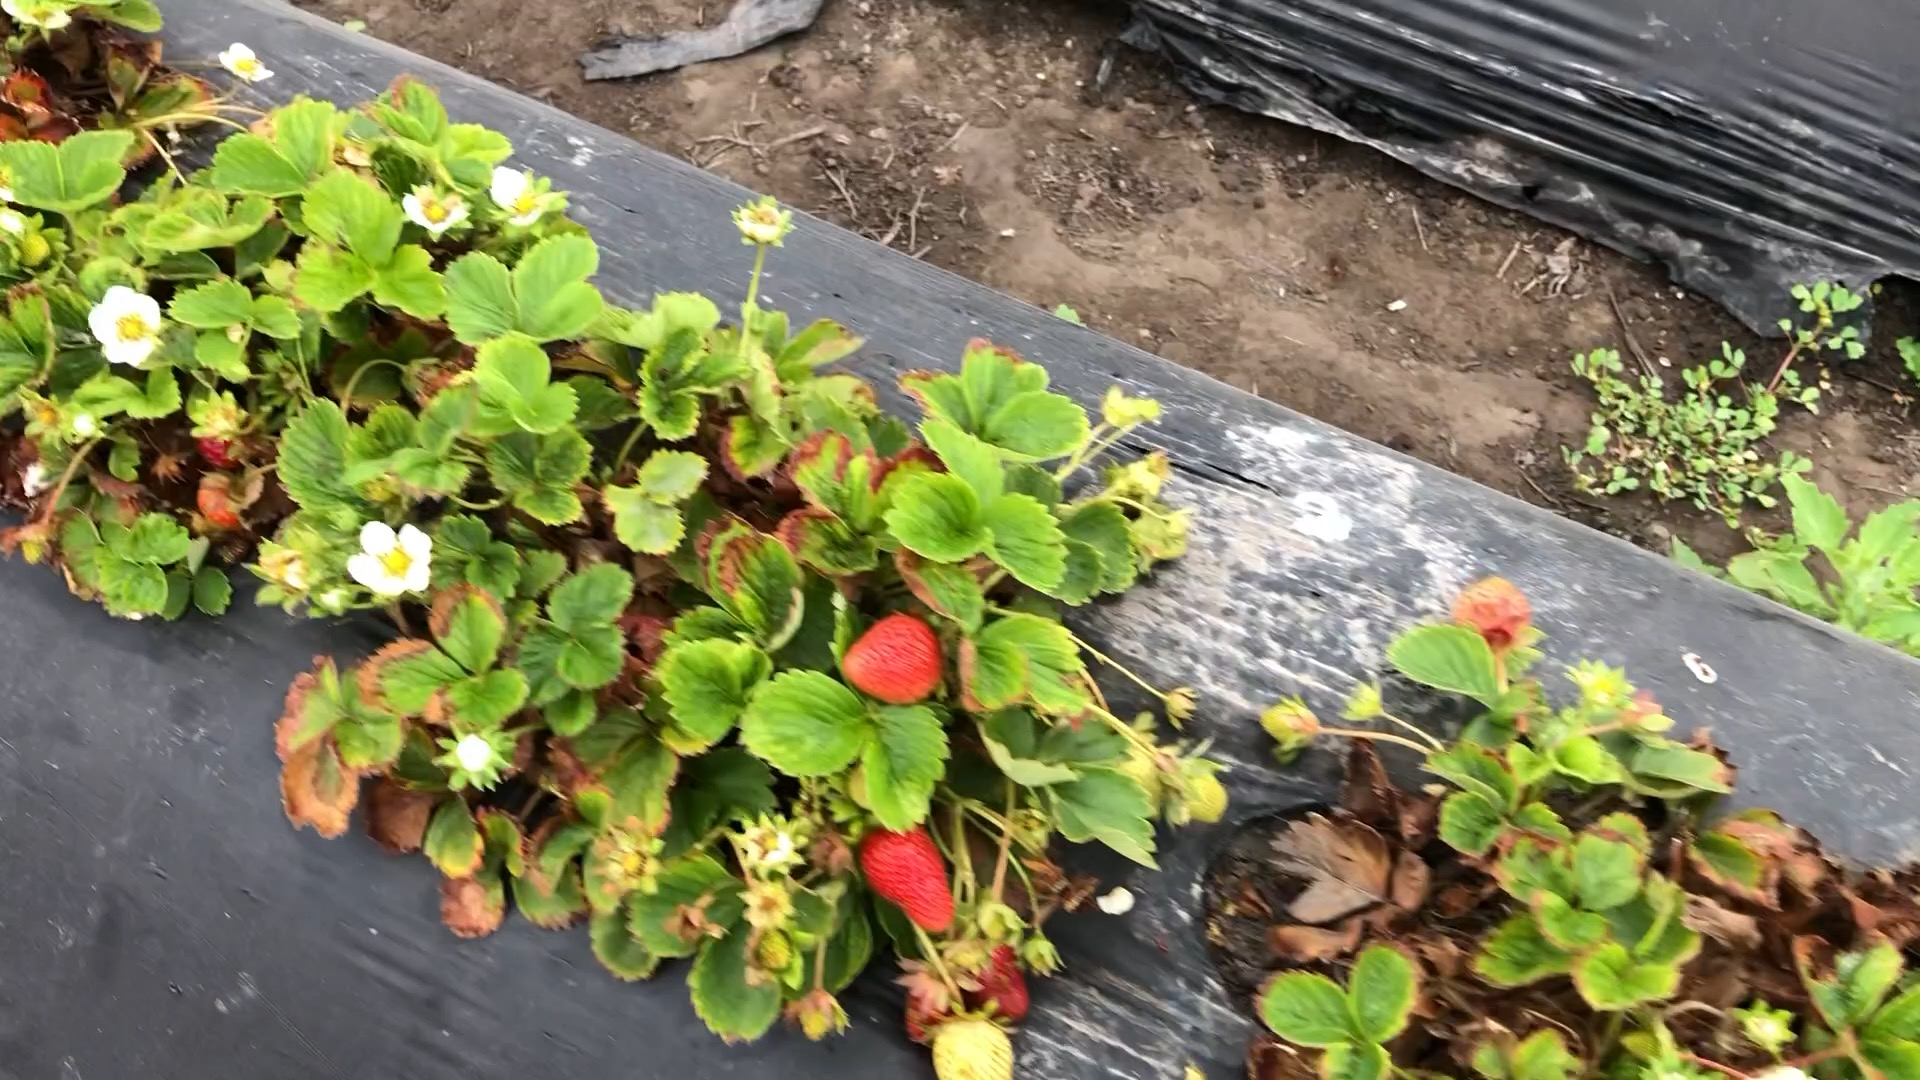ripe_strawberry: (858, 814, 963, 942), (837, 609, 949, 711), (957, 939, 1035, 1025), (902, 973, 963, 1046), (193, 410, 262, 472), (195, 479, 243, 531)
unripe_strawberry: (930, 1011, 1019, 1080), (1163, 758, 1234, 825), (1257, 698, 1323, 753)
